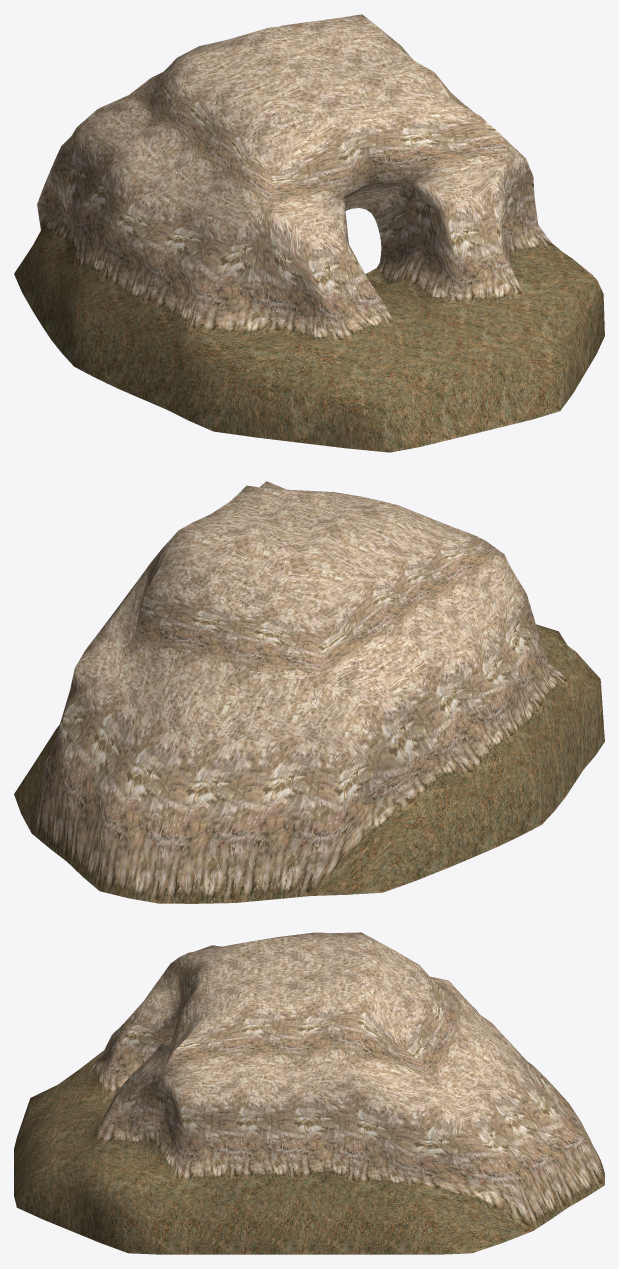
The model's file is thm_all_cave_flatland_s01_r0_mesh_l1.fbx.
The picture shows the model from 3 angles, top to bottom: view 1: azimuth 30°, elevation 25°; view 2: azimuth 150°, elevation 25°; view 3: azimuth 270°, elevation 25°; orthographic projection. The views are drawn at different scales.
Visible parts, largest first — view 1: mesh_node; view 2: mesh_node; view 3: mesh_node.
Part boxes in pixels (x1,y1,x2,y2): mesh_node: (14,14,604,452); mesh_node: (14,481,604,903); mesh_node: (14,932,604,1254).
Size of the model in its own units: 56.42 by 31.43 by 78.78.
